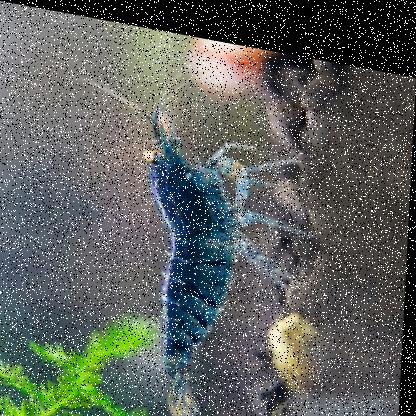shrimp: (136, 101, 303, 415)
